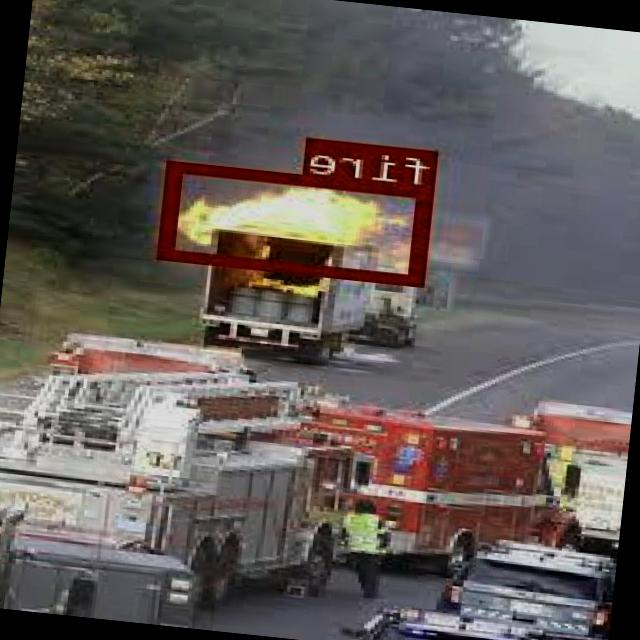fire: (162, 158, 436, 284)
